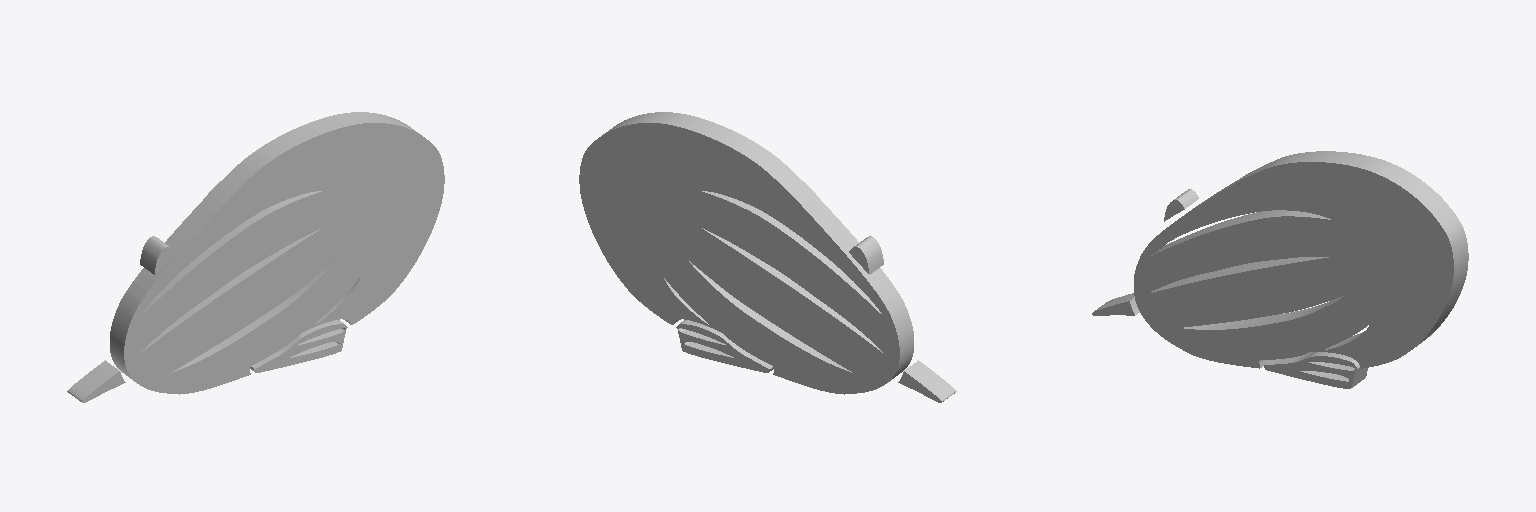
Rendered from zepelin.obj.
3 views of the same model, side by side, from view 1: azimuth 30°, elevation 25°; view 2: azimuth 150°, elevation 25°; view 3: azimuth 330°, elevation 25° (orthographic).
Visible parts, largest first — view 1: Curve_CUpath3051; view 2: Curve_CUpath3051; view 3: Curve_CUpath3051.
Boxes of the visible parts, x1,y1,x2,y2 form: Curve_CUpath3051: [67, 112, 444, 402]; Curve_CUpath3051: [579, 112, 956, 402]; Curve_CUpath3051: [1092, 151, 1468, 388].
Size of the model in its own units: 86.82 by 52.44 by 6.07.